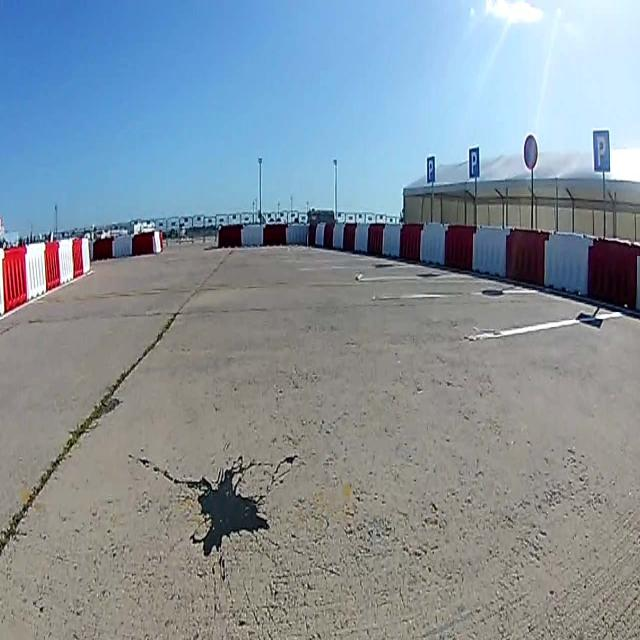park: (592, 128, 610, 172), (468, 146, 479, 178), (427, 156, 435, 184)
parkyasak: (523, 134, 538, 171)
